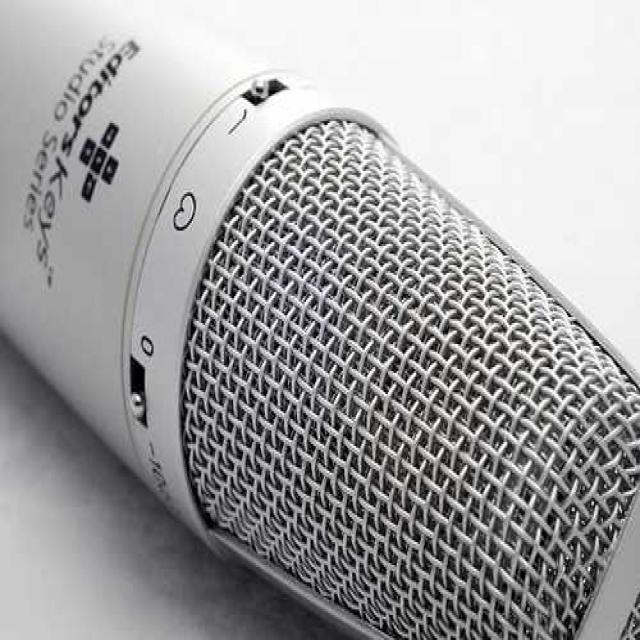microphone: (83, 46, 640, 638)
